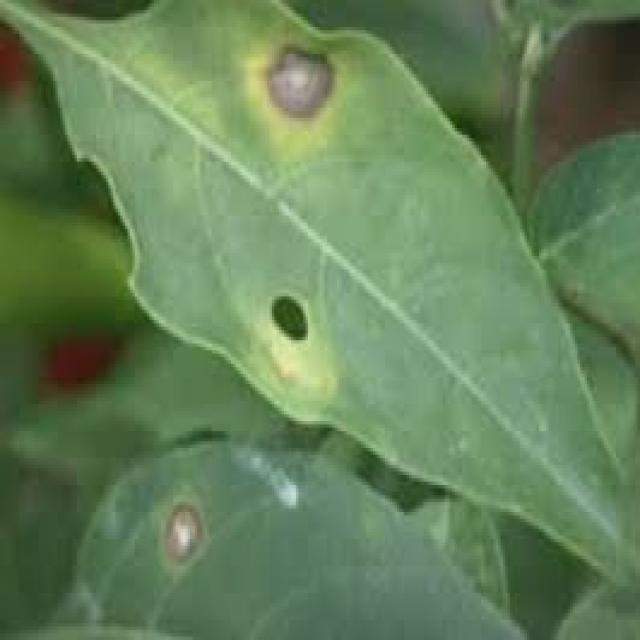bercak_daun: (93, 0, 638, 556)
